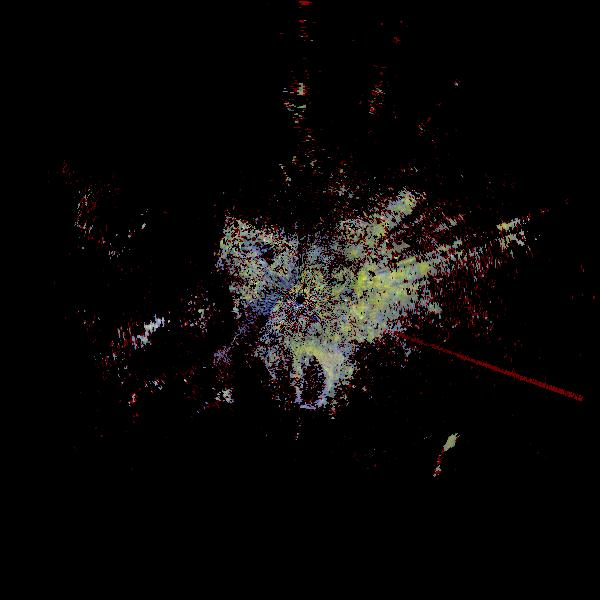roost: (259, 328, 352, 421), (421, 420, 505, 504)
